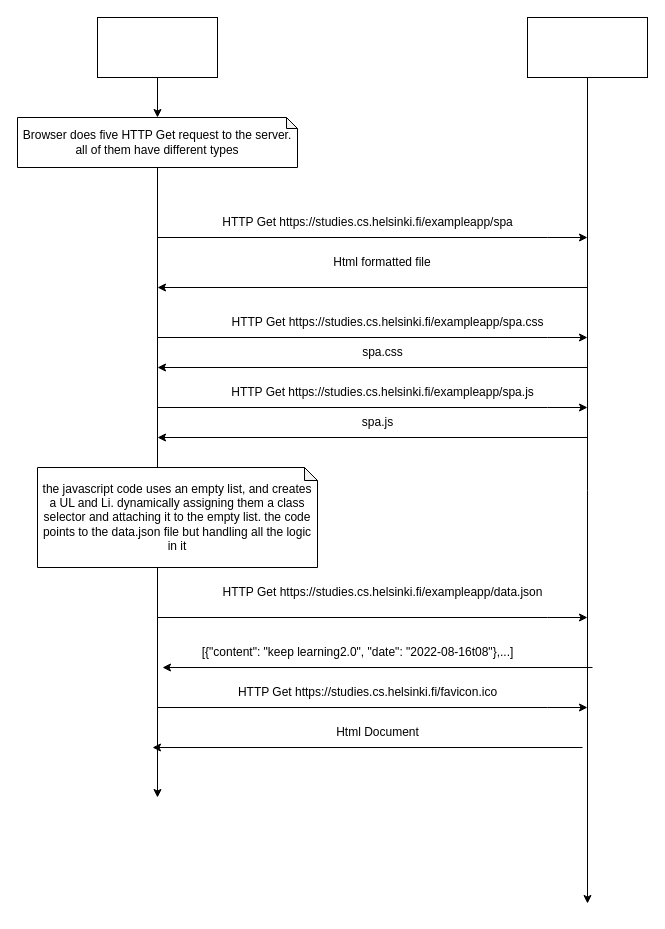
This 665x929 diagram has some shape labels left out. Here are the shapes that lost their labels. From the top down, the centre of each, then its label:
At pixel 157 47: "Browser".
At pixel 587 47: "Server".
